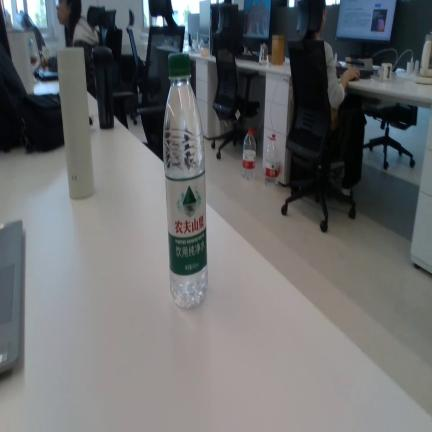bottle: (163, 53, 208, 308), (264, 133, 280, 186), (242, 128, 256, 180)
